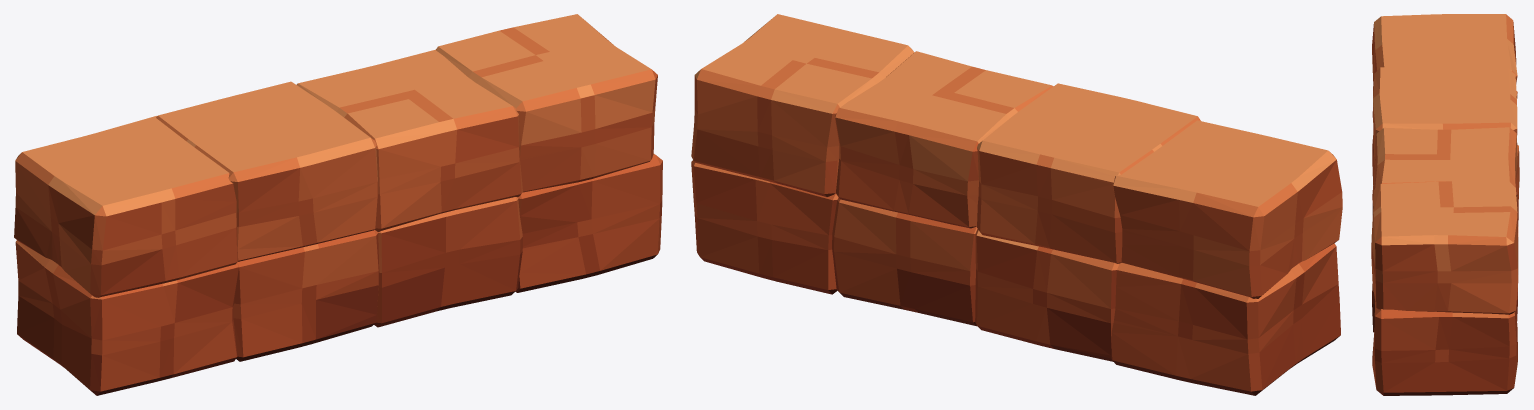
The model's file is SM_ROCK_WALL_01.fbx.
The picture shows the model from 3 angles, left to right: view 1: azimuth 30°, elevation 25°; view 2: azimuth 150°, elevation 25°; view 3: azimuth 270°, elevation 25°; orthographic projection. The views are drawn at different scales.
Visible parts, largest first — view 1: ROCK_WALL_01; view 2: ROCK_WALL_01; view 3: ROCK_WALL_01.
Part boxes in pixels (bbox=[...]): ROCK_WALL_01: bbox=[14, 14, 662, 395]; ROCK_WALL_01: bbox=[691, 14, 1342, 395]; ROCK_WALL_01: bbox=[1371, 14, 1519, 395].
Bounding box in the file's own units: 4.08 × 1.1 × 1.3.
